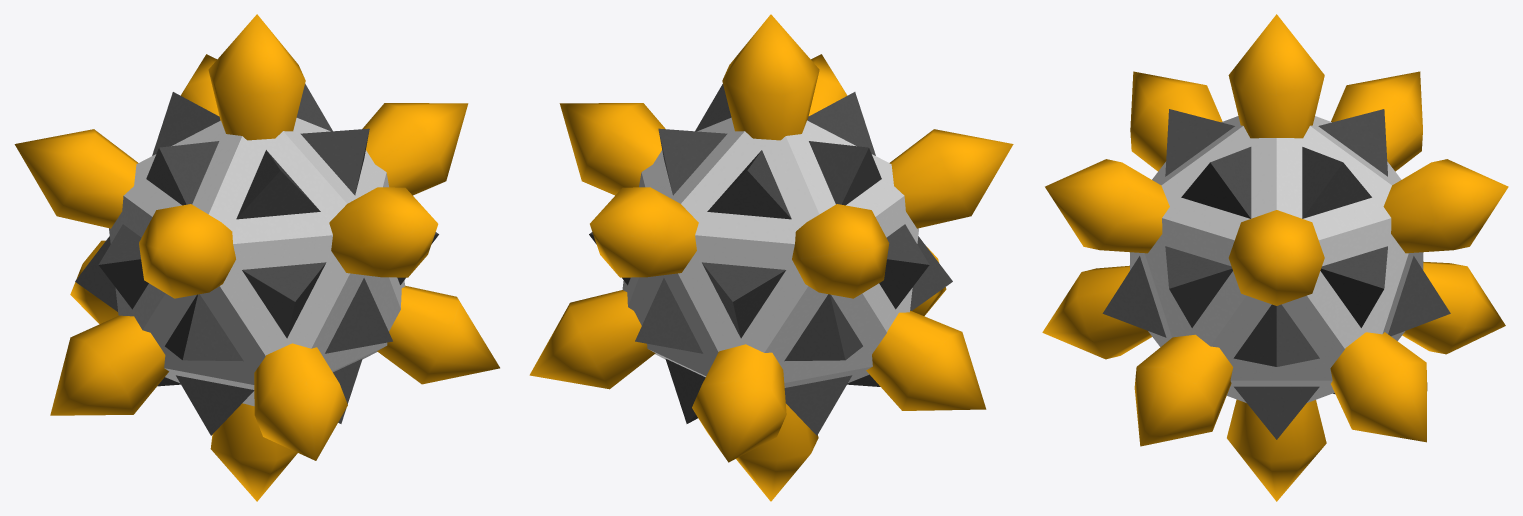
Rendered from SpaceMine.FBX.
3 renders of one model, left to right at view 1: azimuth 30°, elevation 25°; view 2: azimuth 150°, elevation 25°; view 3: azimuth 270°, elevation 25°, orthographic.
Parts seen in each view (by area): view 1: SpaceMine; view 2: SpaceMine; view 3: SpaceMine.
Part boxes in pixels (box(x1,y1,x2,y2)): SpaceMine: box(14, 14, 499, 501); SpaceMine: box(529, 14, 1013, 501); SpaceMine: box(1042, 14, 1508, 501).
Bounding box in the file's own units: 17.76 × 19.6 × 16.98.
